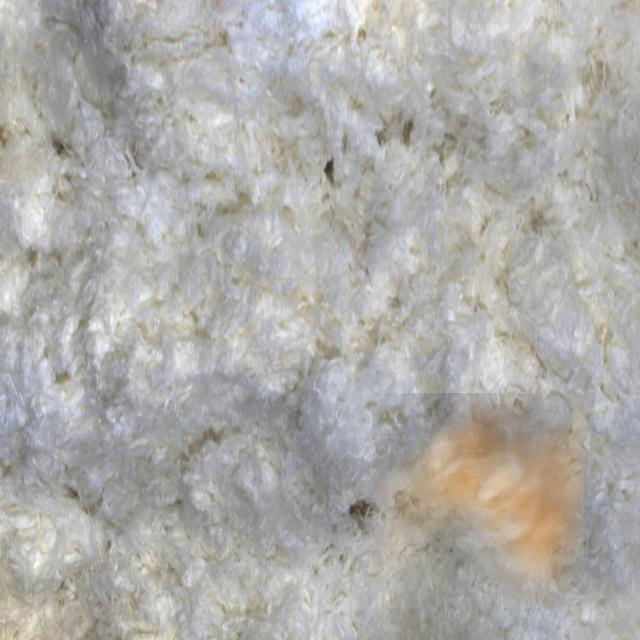dust: (372, 393, 584, 608)
